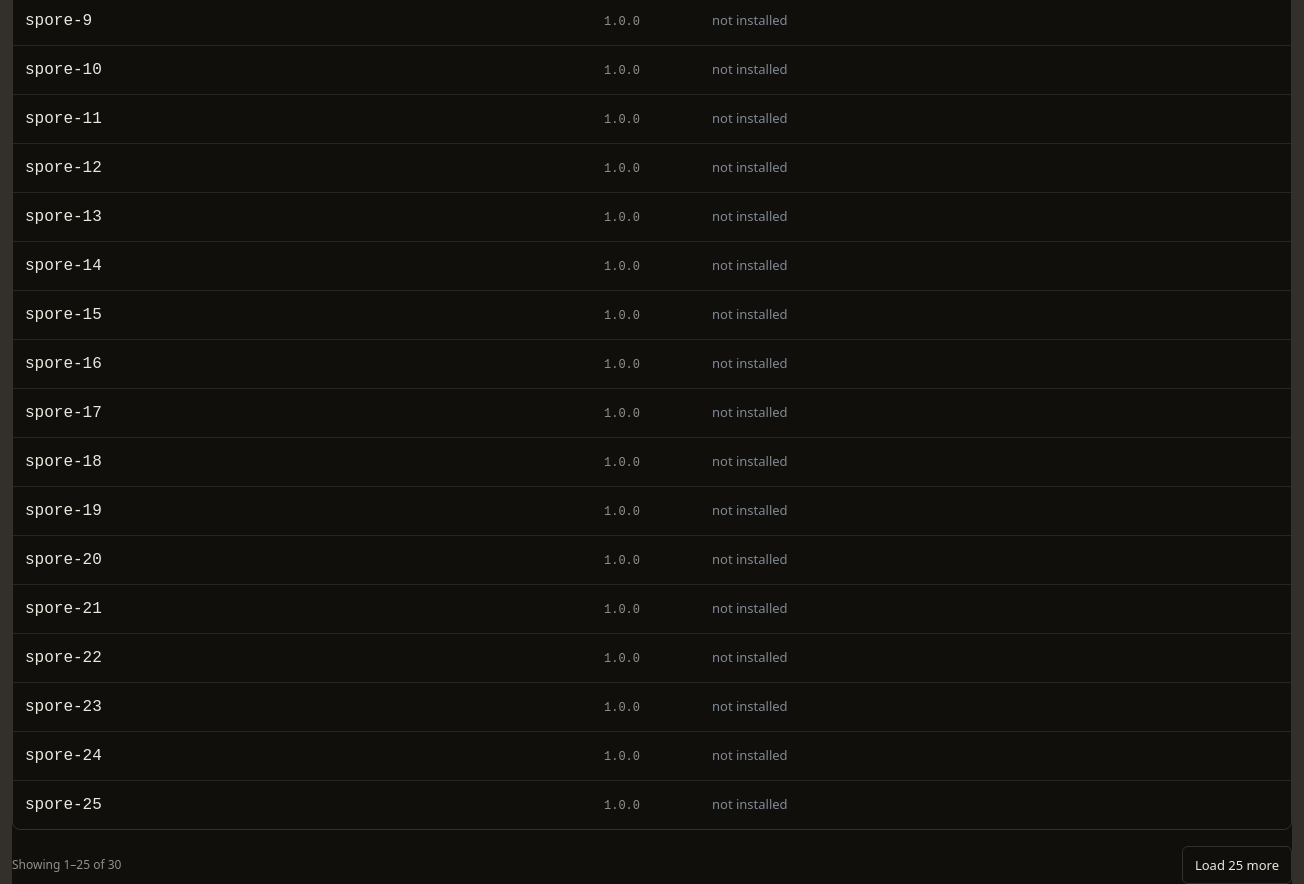
Test: reading a catalogue larger than one page › reveals the next 25 on demand, and stops offering more once everything is shown
The width and height of the screenshot is (1304, 884).
(page scrolled)
Click the button "Load 25 more": (1237, 865) 1182,846 -> 1292,883
(page scrolled)
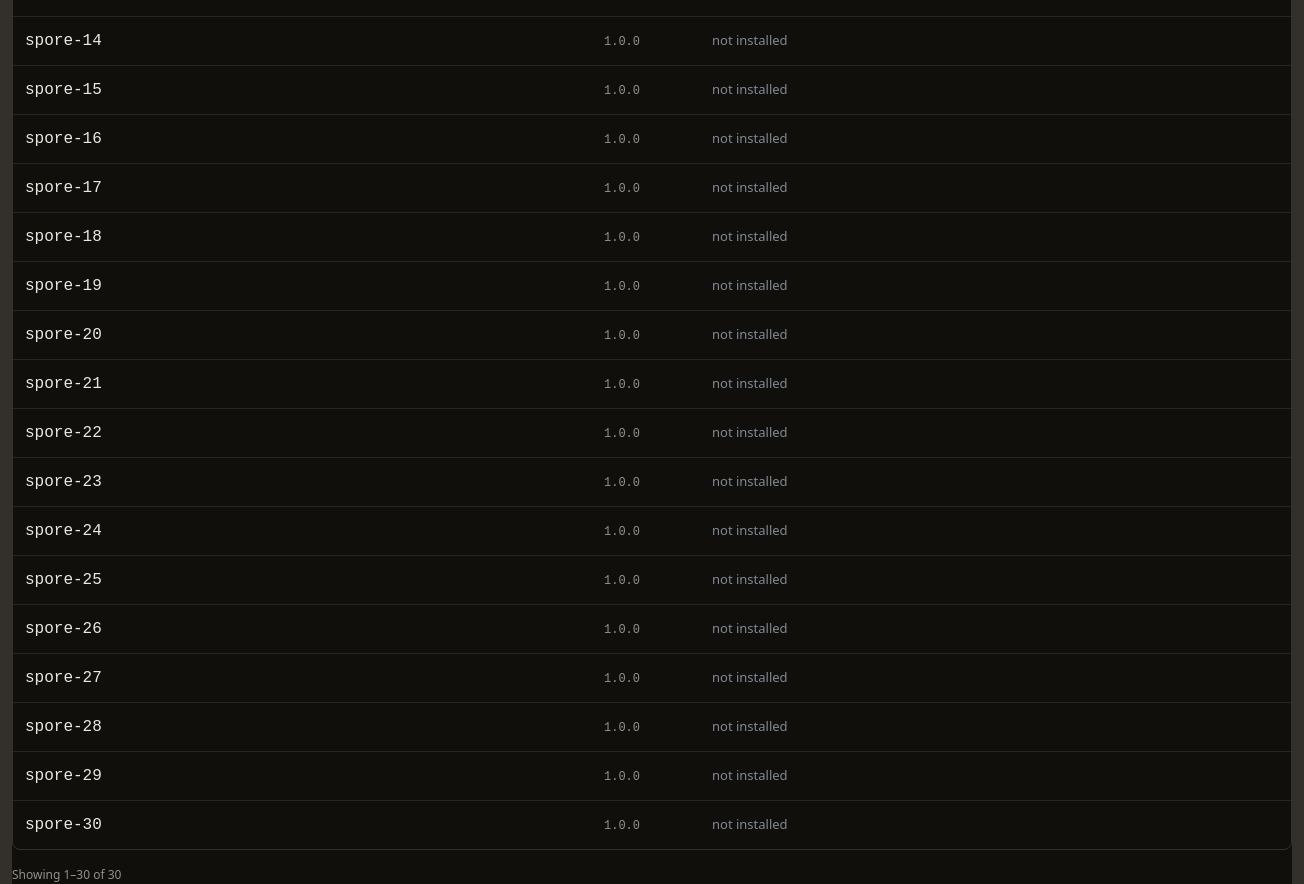
Expected: the text "Showing 1–30 of 30" is shown, 12,866 -> 121,883
Expected: the button "Load 25 more" is gone
